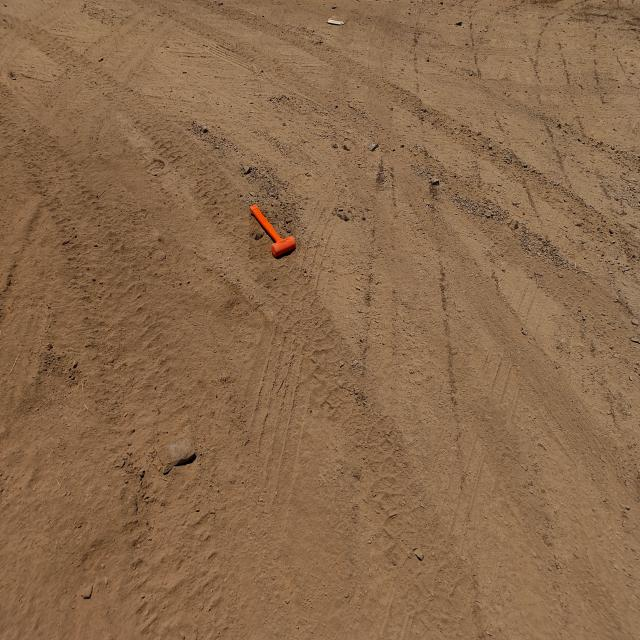Orange_hammer: (249, 203, 296, 259)
